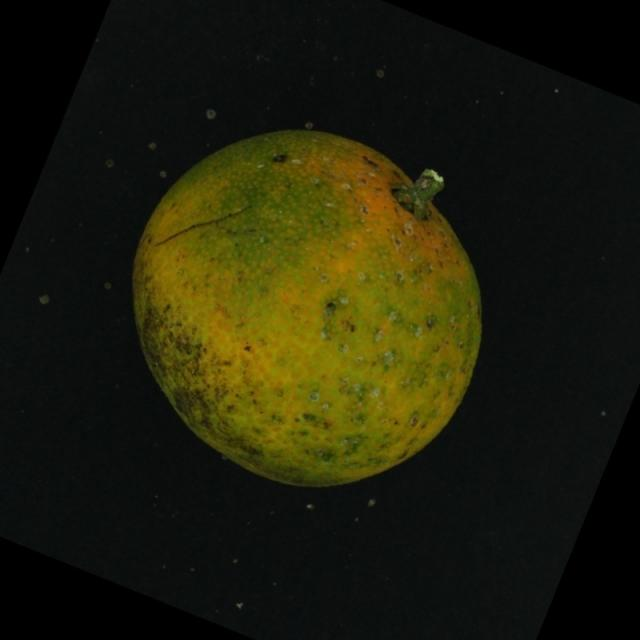grenning: (104, 108, 504, 501)
